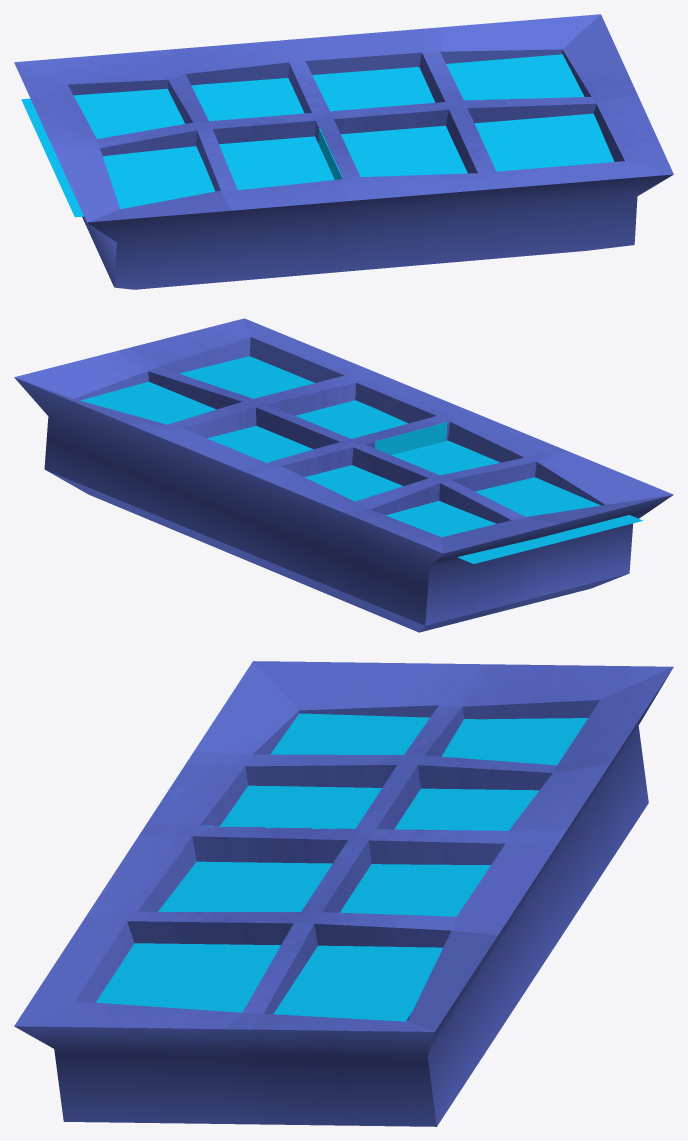
Rendered from H_IceCubes_Tray.fbx.
3 views of the same model, one above another, from view 1: azimuth 30°, elevation 25°; view 2: azimuth 150°, elevation 25°; view 3: azimuth 270°, elevation 25° (orthographic). The views are drawn at different scales.
Parts seen in each view (by area): view 1: CubeTray; view 2: CubeTray; view 3: CubeTray.
Boxes of the visible parts, <box> form: CubeTray: <box>14,14,673,289</box>; CubeTray: <box>14,318,673,632</box>; CubeTray: <box>14,661,673,1126</box>.
Size of the model in its own units: 51.04 by 11.45 by 35.63.
